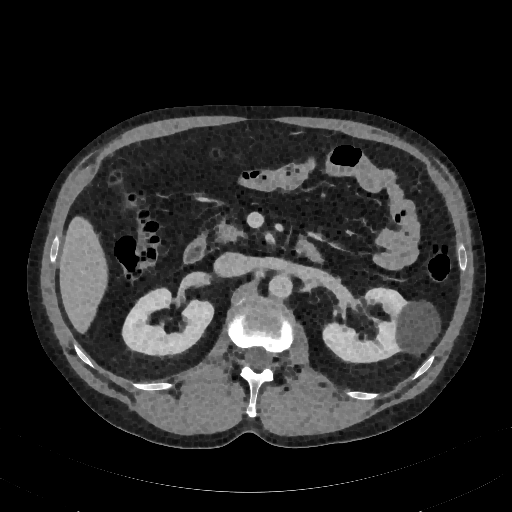Lesion: (391, 296, 443, 360)
